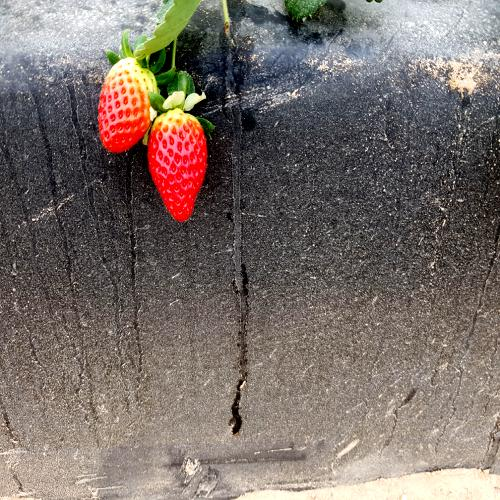partially-ripe: (94, 53, 157, 163)
ripe: (147, 108, 215, 229)
